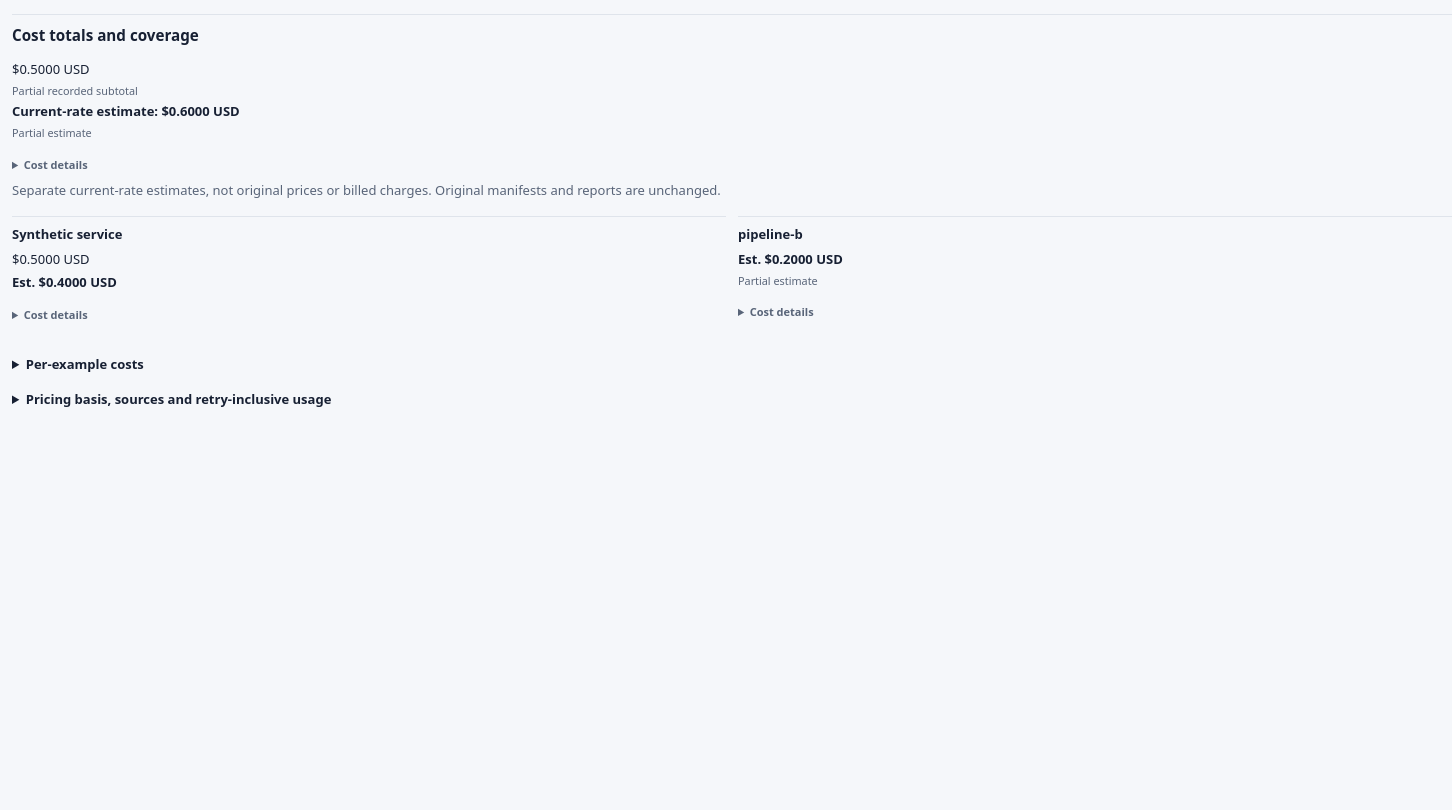
separate recorded cost and current-rate evidence › uses optional readable names in primary cost headings and retains ID fallback
Check: the heading "Synthetic service" is shown, box [12,225,122,243]
Check: the heading "pipeline-b" is shown, box [738,225,803,243]
Click the heading "Per-example costs" at point(85, 364), box [26,355,144,373]
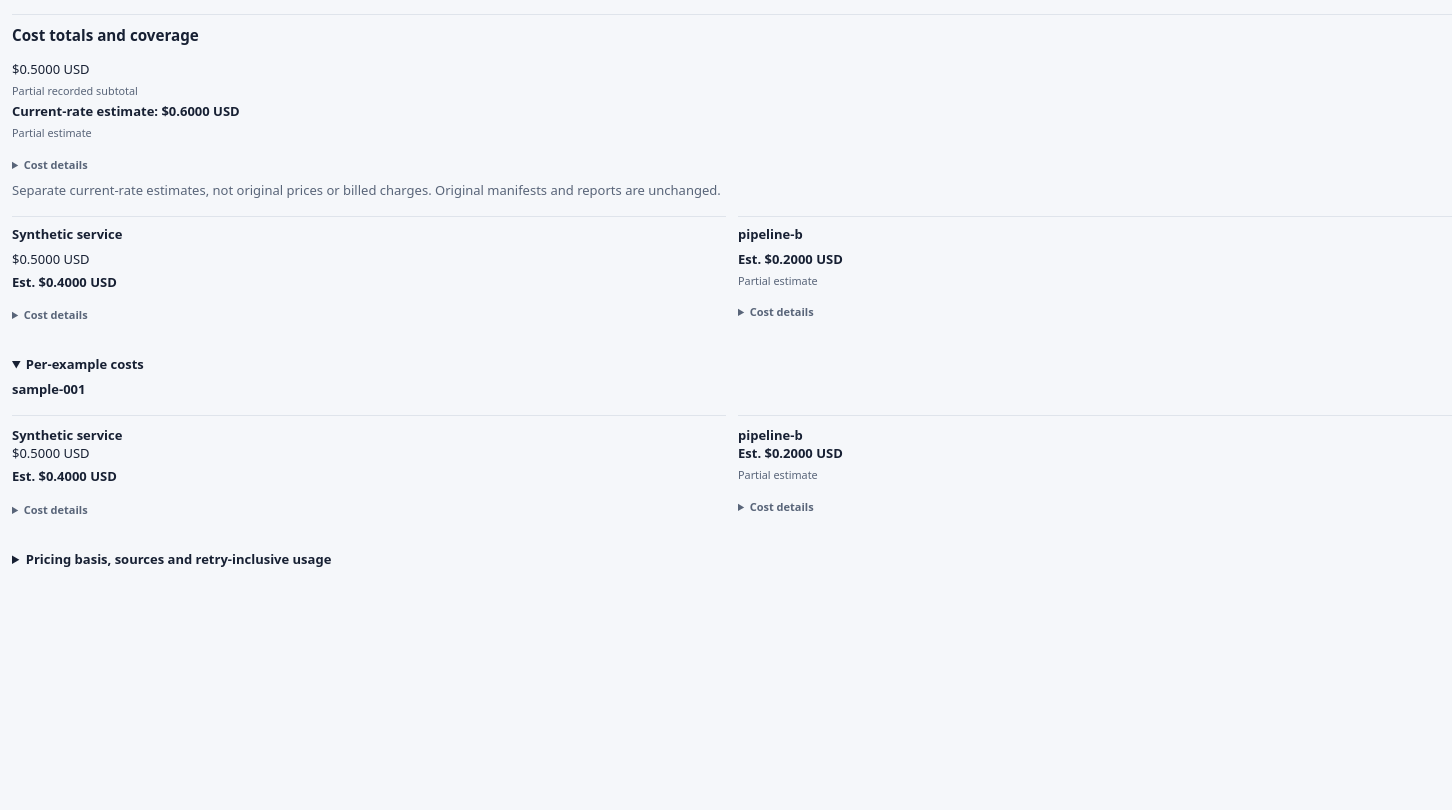
Check: the text "Synthetic service" is shown, box [12,426,122,444]
